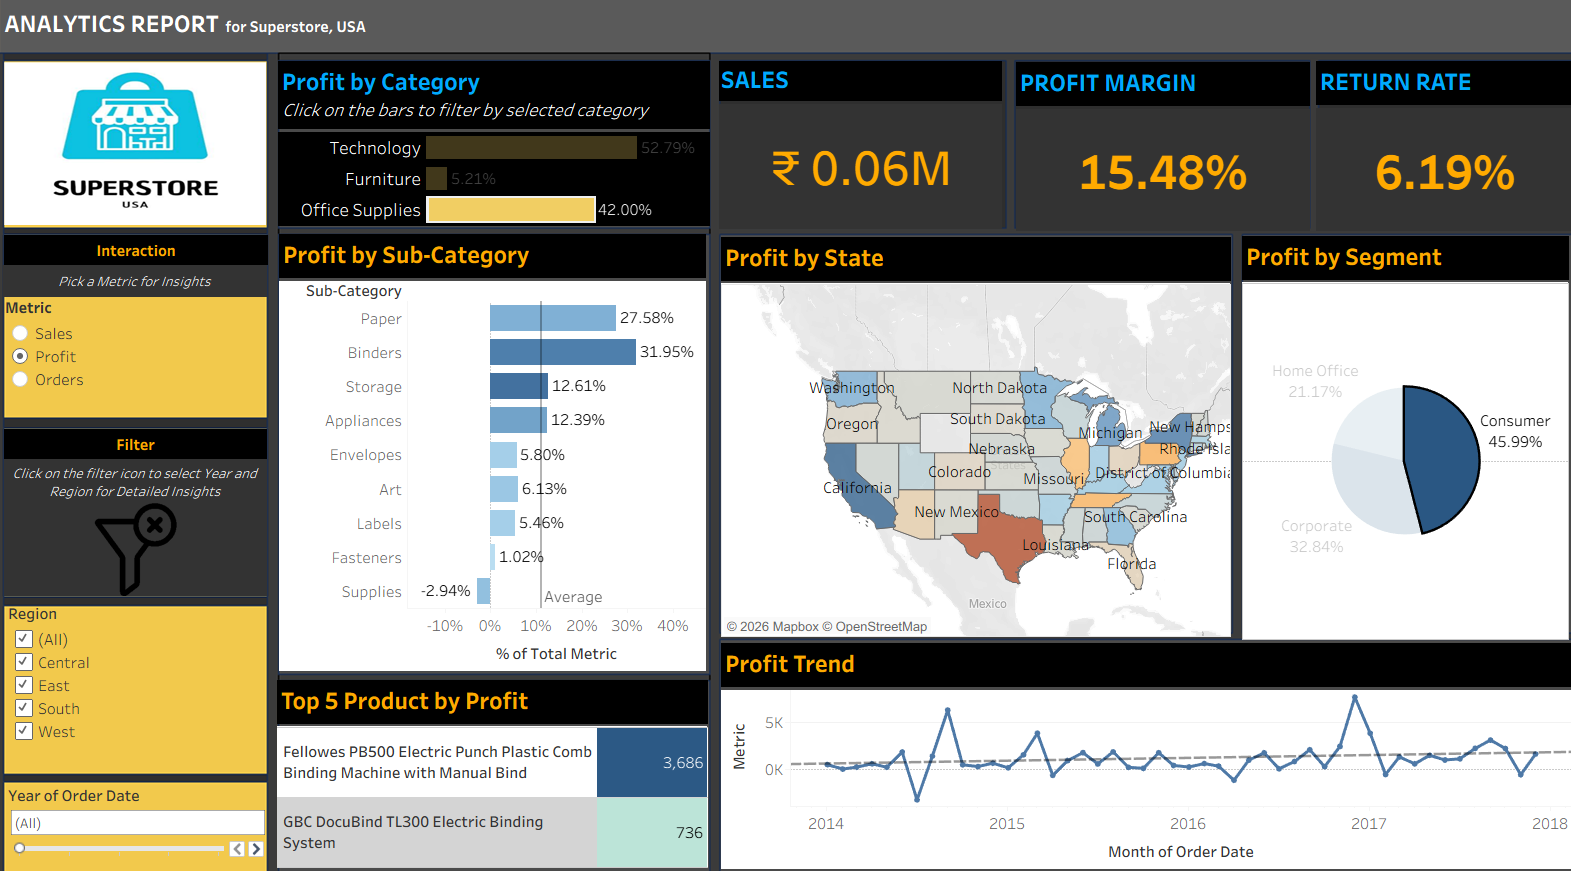

Layout of this report page (visuals, bound fields, positions):
{"tool":"tableau","page":{"name":"Analytics Report","canvas":[1600,900],"ordinal":0},"visuals":[{"type":"image","param":"Image/Slide1.PNG","box":[8,8,1584,884]},{"type":"text","box":[15,16,434,48]},{"type":"worksheet","title":"Sales By Category","mark":"Automatic","rows":["Category"],"cols":["Calculation_1255958603579395"],"box":[292,78,432,165]},{"type":"worksheet","title":"SALES","mark":"Automatic","box":[733,78,283,168]},{"type":"worksheet","title":"RETURN RATE","mark":"Automatic","box":[1330,78,257,170]},{"type":"image","param":"Image/Logo - Copy.png","box":[18,79,262,167]},{"type":"worksheet","title":"PROFIT MARGIN","mark":"Automatic","box":[1030,79,294,169]},{"type":"worksheet","title":"Sales By Sub-Category","mark":"Automatic","rows":["Sub-Category"],"cols":["Calculation_1255958603579395"],"box":[293,251,427,437]},{"type":"text","box":[18,252,264,30]},{"type":"worksheet","title":"Sales By Segment","mark":"Pie","rows":["Calculation_0145451171995653","Calculation_0145451172016135"],"box":[1256,253,327,404]},{"type":"worksheet","title":"Sales By State","mark":"Automatic","box":[735,254,510,400]},{"type":"text","box":[17,282,264,32]},{"type":"parameter","param":"[Parameters].[Parameter 1255958602371072]","box":[19,314,261,120]},{"type":"text","box":[18,446,263,30]},{"type":"text","box":[18,476,263,46]},{"type":"dashboard-object","box":[18,520,263,93]},{"type":"filter","title":"Sales By State","param":"[federated.15wvr6j06k6v871dcykzk197liuz].[none:Region:nk]","box":[18,616,268,182]},{"type":"worksheet","title":"Sales Trend","mark":"Line","rows":["Calculation_1255958603579395"],"cols":["Order Date"],"box":[735,660,851,226]},{"type":"worksheet","title":"Top 5 Products by Sales","mark":"Square","box":[291,697,431,188]}]}

Visuals, with their boxes in screenshot pixels (x1, y1, x2, y2), scaled from the page's 1600x900 canvas onto the 1571x874 screenshot:
image: <region>8, 8, 1563, 866</region>
text: <region>15, 16, 441, 62</region>
"Sales By Category" worksheet: <region>287, 76, 711, 236</region>
"SALES" worksheet: <region>720, 76, 998, 239</region>
"RETURN RATE" worksheet: <region>1306, 76, 1558, 241</region>
image: <region>18, 77, 275, 239</region>
"PROFIT MARGIN" worksheet: <region>1011, 77, 1300, 241</region>
"Sales By Sub-Category" worksheet: <region>288, 244, 707, 668</region>
text: <region>18, 245, 277, 274</region>
"Sales By Segment" worksheet (Pie marks): <region>1233, 246, 1554, 638</region>
"Sales By State" worksheet: <region>722, 247, 1222, 635</region>
text: <region>17, 274, 276, 305</region>
parameter: <region>19, 305, 275, 421</region>
text: <region>18, 433, 276, 462</region>
text: <region>18, 462, 276, 507</region>
dashboard-object: <region>18, 505, 276, 595</region>
"Sales By State" filter: <region>18, 598, 281, 775</region>
"Sales Trend" worksheet (Line marks): <region>722, 641, 1557, 860</region>
"Top 5 Products by Sales" worksheet (Square marks): <region>286, 677, 709, 859</region>
